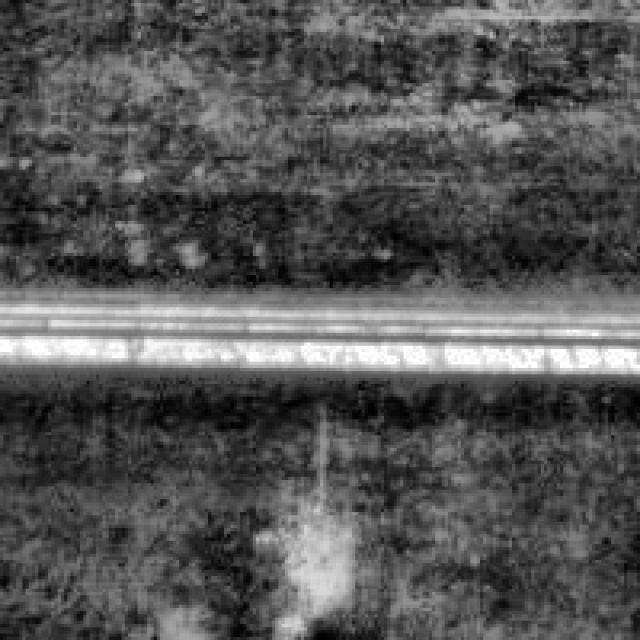Inclusion: (0, 269, 637, 384)
